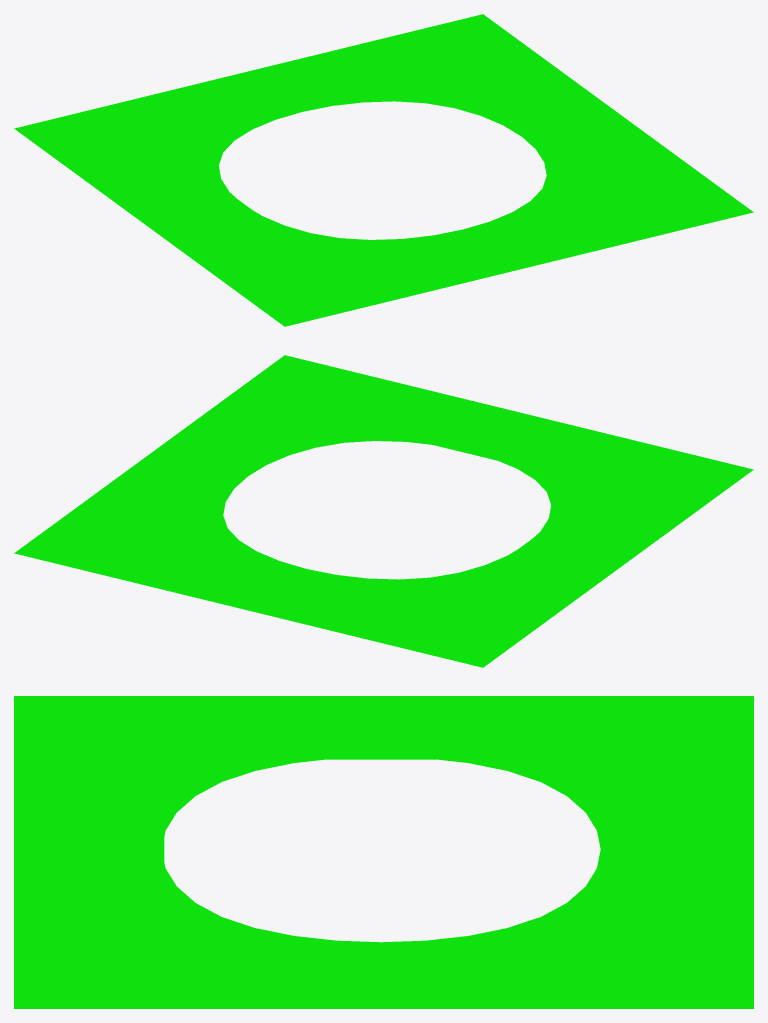
Rendered from greensphere.fbx.
The picture shows the model from 3 angles, top to bottom: view 1: azimuth 30°, elevation 25°; view 2: azimuth 150°, elevation 25°; view 3: azimuth 270°, elevation 25°; orthographic projection. The views are drawn at different scales.
Parts seen in each view (by area): view 1: Plane, Plane.001; view 2: Plane, Plane.001; view 3: Plane, Plane.001.
Boxes of the visible parts, box(x1,y1,x2,y2) form: Plane: box(129, 63, 635, 277); Plane.001: box(14, 14, 753, 326); Plane: box(134, 403, 640, 617); Plane.001: box(14, 355, 753, 667); Plane: box(42, 706, 720, 992); Plane.001: box(14, 696, 753, 1008).
Bounding box in the file's own units: 400 × 0.8784 × 400.
